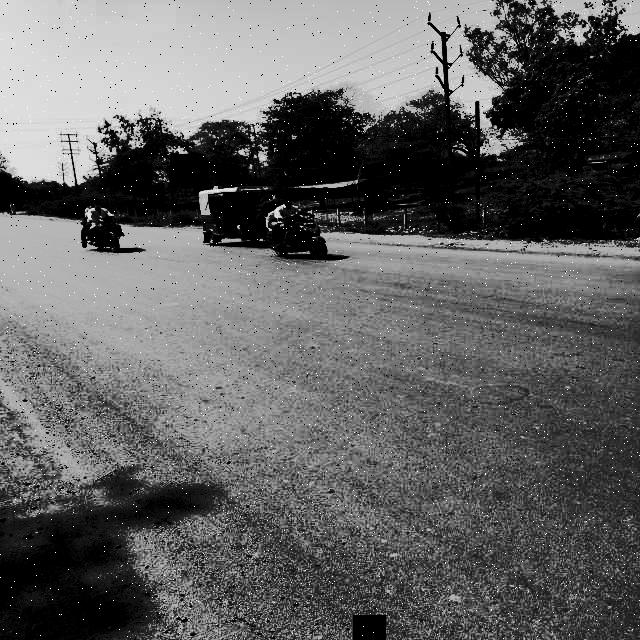Auto-Rickshaw: (194, 187, 272, 241)
